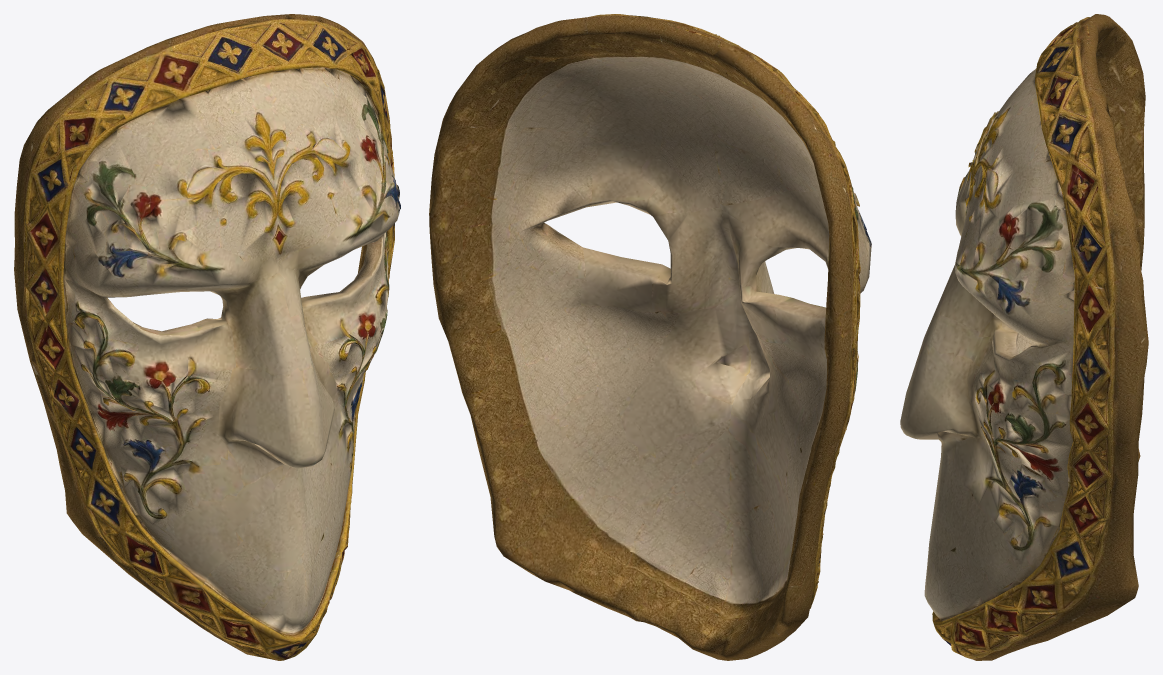
3 views of the same model, side by side, from view 1: azimuth 30°, elevation 25°; view 2: azimuth 150°, elevation 25°; view 3: azimuth 270°, elevation 25° (orthographic). The views are drawn at different scales.
Bounding box in the file's own units: 1.22 × 1.9 × 0.6984.
Materials: 1 (1 with a texture image).
